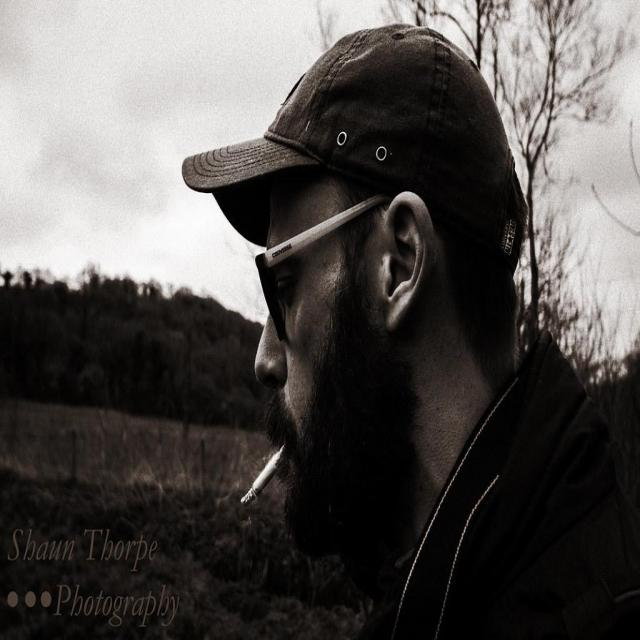Сигарета: (240, 443, 289, 509)
Тело: (182, 24, 583, 640)
